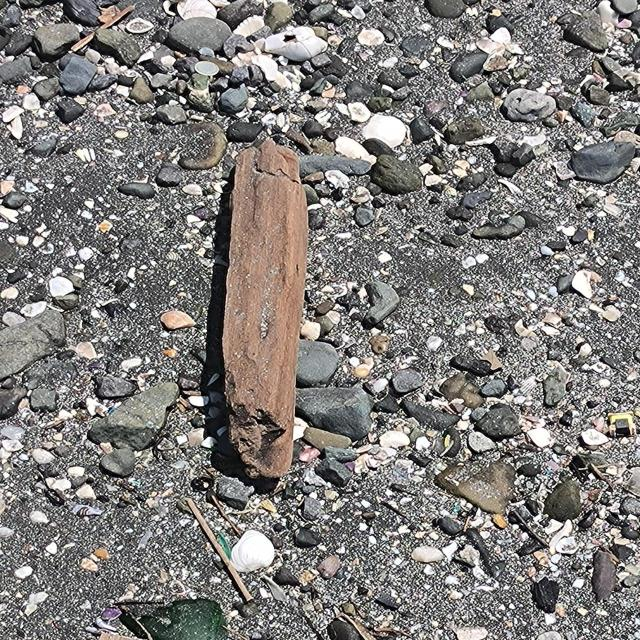wood_waste: (218, 133, 311, 481)
